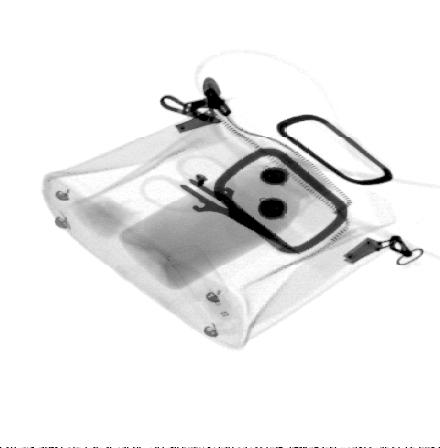Scissors: (139, 151, 283, 243)
